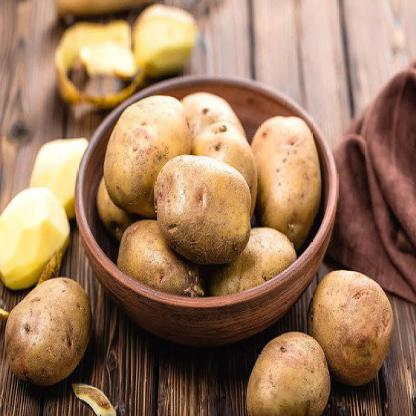potato: (289, 258, 410, 392), (152, 143, 257, 274), (5, 254, 112, 374), (102, 83, 190, 219), (114, 215, 220, 327), (254, 90, 332, 241), (204, 208, 305, 324), (190, 64, 269, 206), (247, 324, 348, 415)
